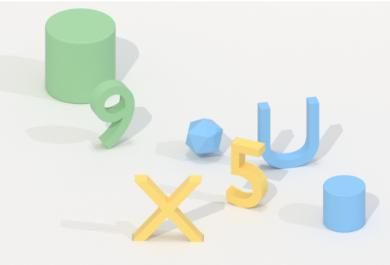0-KhoiTru: (42, 4, 119, 106), (319, 172, 369, 236)
0-TronCanh: (183, 114, 223, 160)
5: (223, 133, 269, 211)
9: (88, 77, 138, 153)
U: (255, 94, 323, 171)
X: (130, 169, 205, 248)
